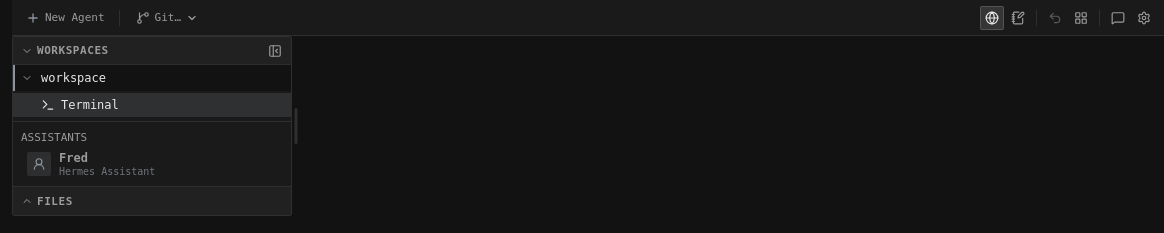
Scenario: the Assistant shell shows only the Hermes primary until the Browser sidecar opens; the terminal never remounts
Click the button "Fred Hermes Assistant" at (152, 164), box 21,150 -> 283,178
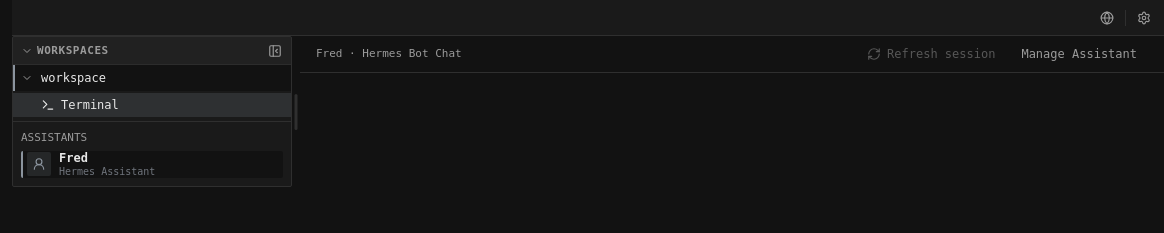
Click the button named "Toggle browser panel" at (1107, 18), box 1095,6 -> 1119,30
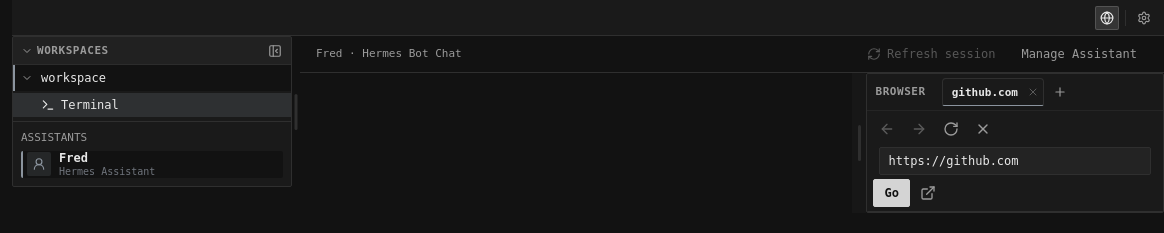
Expected: the element with class "assistant-terminal" is shown, 300,73 -> 852,213
Now the element with class "browser-panel" is shown, box 866,73 -> 1163,213
Click the button named "Toggle browser panel" at (1107, 18), box 1095,6 -> 1119,30
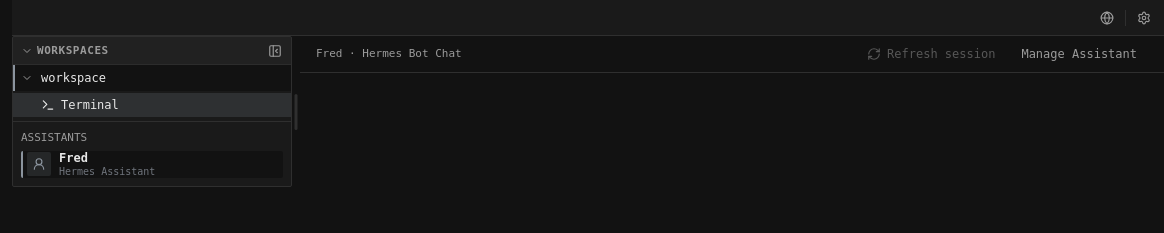
Now the element with class "browser-panel" is gone
